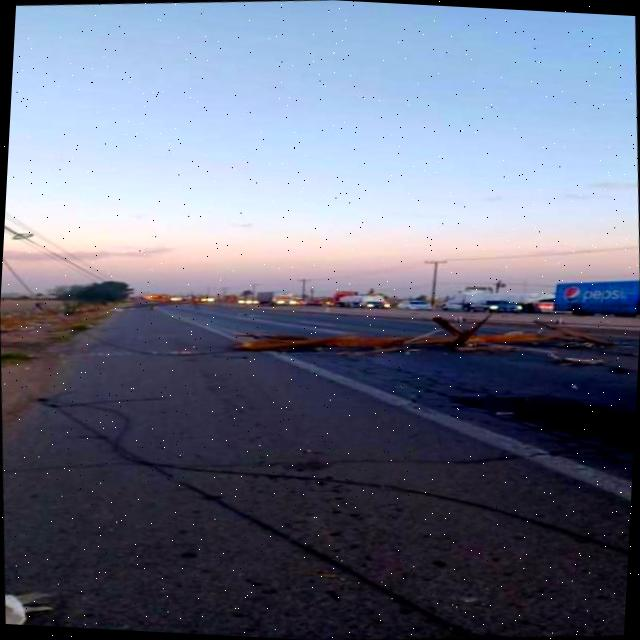Broken Pole: (231, 316, 617, 350)
